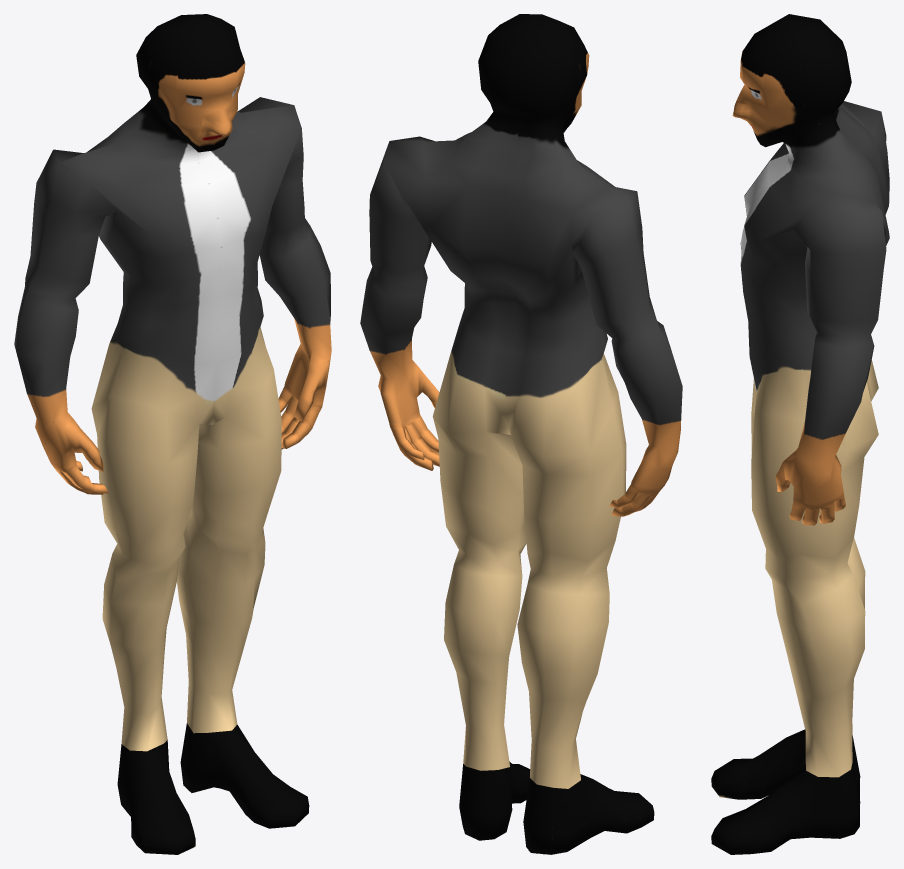
File: that guy.fbx
3 views of the same model, side by side, from view 1: azimuth 30°, elevation 25°; view 2: azimuth 150°, elevation 25°; view 3: azimuth 270°, elevation 25° (orthographic).
Parts seen in each view (by area): view 1: basemesh_male; view 2: basemesh_male; view 3: basemesh_male.
Part boxes in pixels (x1=…): basemesh_male: x1=14, y1=14, x2=331, y2=854; basemesh_male: x1=360, y1=14, x2=682, y2=854; basemesh_male: x1=711, y1=14, x2=889, y2=854.
Bounding box in the file's own units: 3.18 × 7.68 × 1.56.
Materials: 1 (1 with a texture image).
